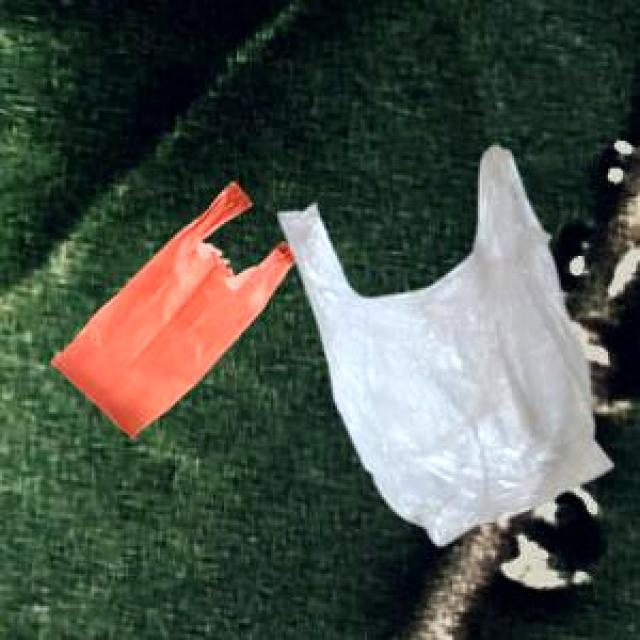Plastic_Bag: (276, 142, 609, 543), (48, 180, 294, 434)
